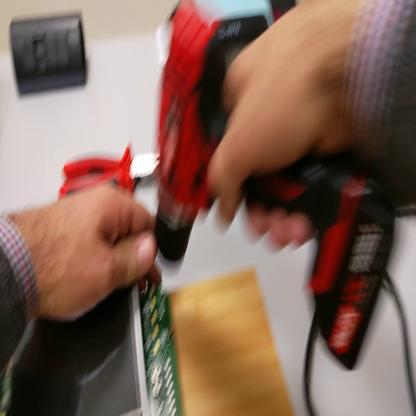electric screwdriver: (154, 3, 399, 295)
hand: (208, 3, 349, 249), (34, 181, 160, 324)
low voltage board: (1, 281, 185, 415)
pliers: (58, 143, 160, 201)
welder station: (201, 5, 276, 65)
working area: (164, 266, 294, 415)
